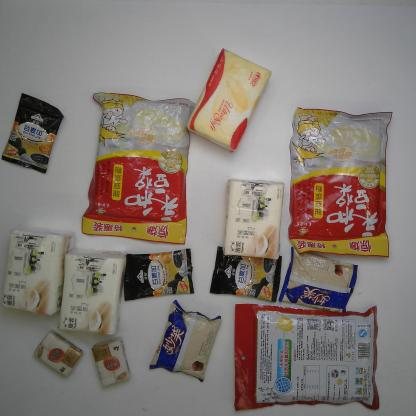Dessert: (148, 298, 223, 385), (277, 245, 359, 312)
Instant Drink: (79, 91, 196, 245), (233, 302, 382, 412), (286, 107, 393, 258), (1, 91, 64, 175), (210, 245, 282, 303), (124, 246, 194, 302)
Tissue: (185, 48, 273, 154), (0, 226, 77, 316), (57, 245, 127, 336), (222, 178, 286, 262), (32, 328, 84, 378), (91, 336, 132, 389)
